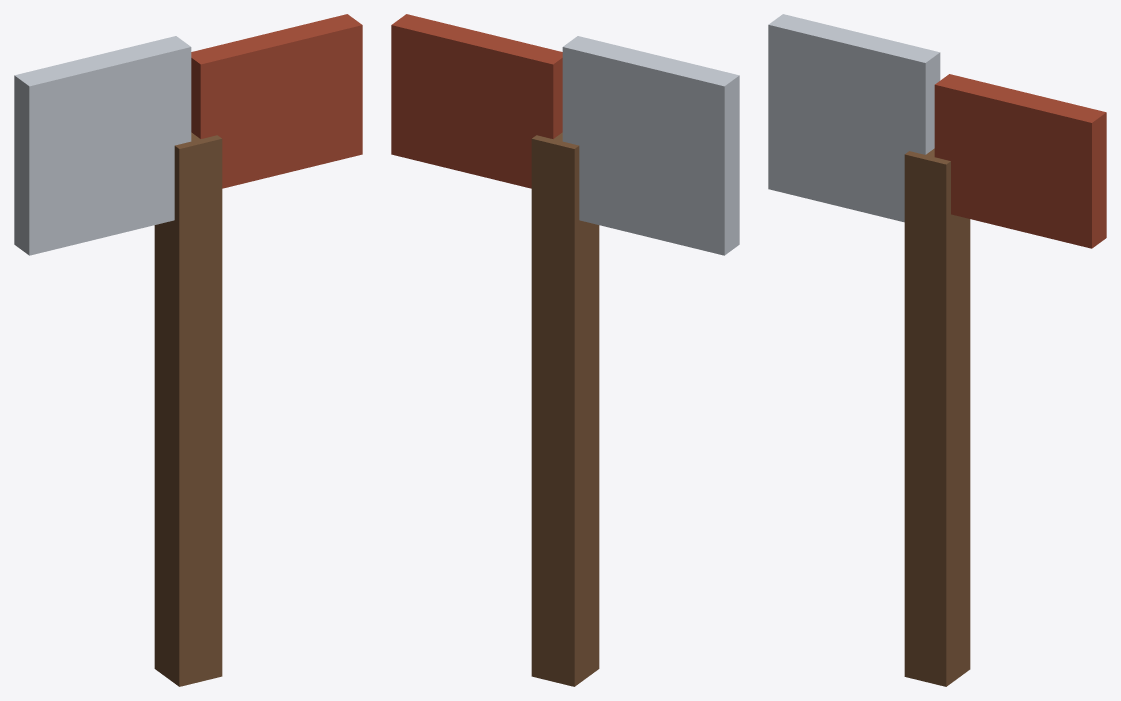
The model's file is axe-prototype.glb.
3 renders of one model, left to right at view 1: azimuth 30°, elevation 25°; view 2: azimuth 150°, elevation 25°; view 3: azimuth 330°, elevation 25°, orthographic. The views are drawn at different scales.
Parts seen in each view (by area): view 1: long-haft, axe-left-head, axe-right-hook; view 2: long-haft, axe-left-head, axe-right-hook; view 3: long-haft, axe-left-head, axe-right-hook.
Boxes of the visible parts, bbox=[...] form: long-haft: bbox=[154, 132, 222, 686]; axe-left-head: bbox=[14, 36, 191, 255]; axe-right-hook: bbox=[191, 14, 362, 188]; long-haft: bbox=[531, 132, 599, 686]; axe-left-head: bbox=[562, 36, 739, 255]; axe-right-hook: bbox=[391, 14, 562, 188]; long-haft: bbox=[904, 148, 970, 686]; axe-left-head: bbox=[768, 14, 940, 222]; axe-right-hook: bbox=[934, 74, 1106, 248].
Size of the model in its own units: 0.7 by 1.27 by 0.09.
